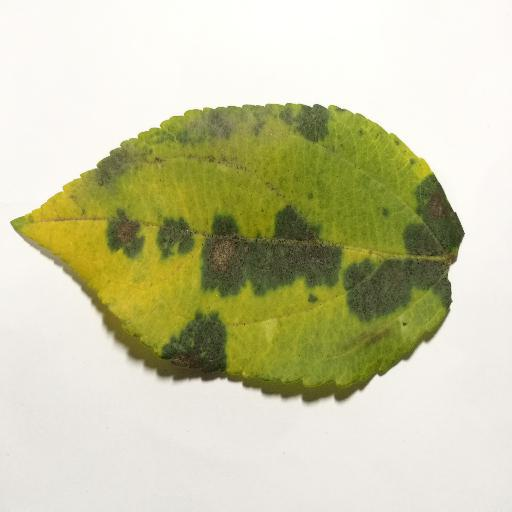Brown_Spot: (118, 183, 475, 396)
